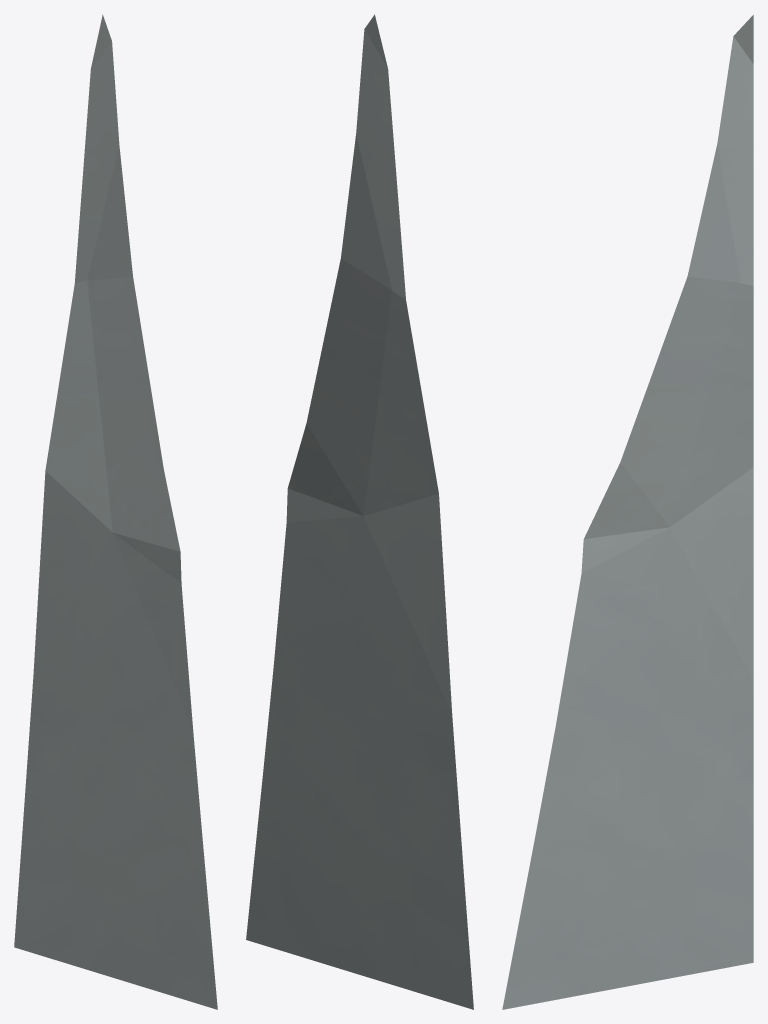
3 renders of one model, left to right at view 1: azimuth 30°, elevation 25°; view 2: azimuth 210°, elevation 25°; view 3: azimuth 270°, elevation 25°, orthographic. The views are drawn at different scales.
Bounding box in the file's own units: 0.0713 × 0.7009 × 0.1604.
1 material, 1 textured.
